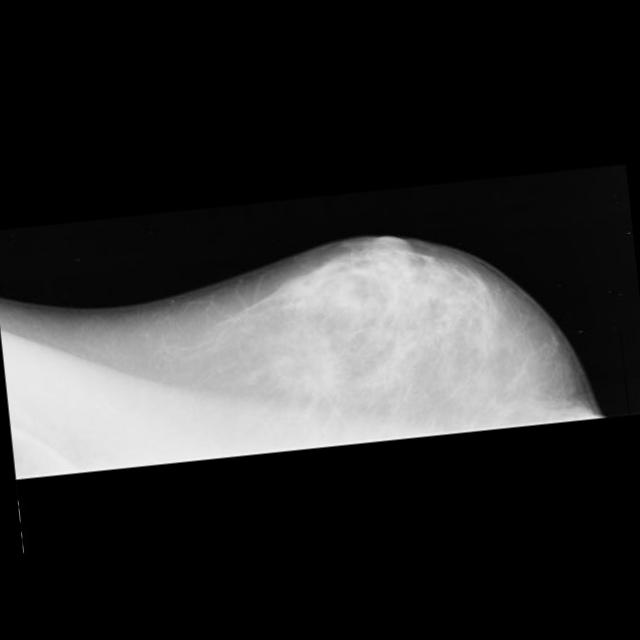SPIC: (295, 344, 351, 399)
